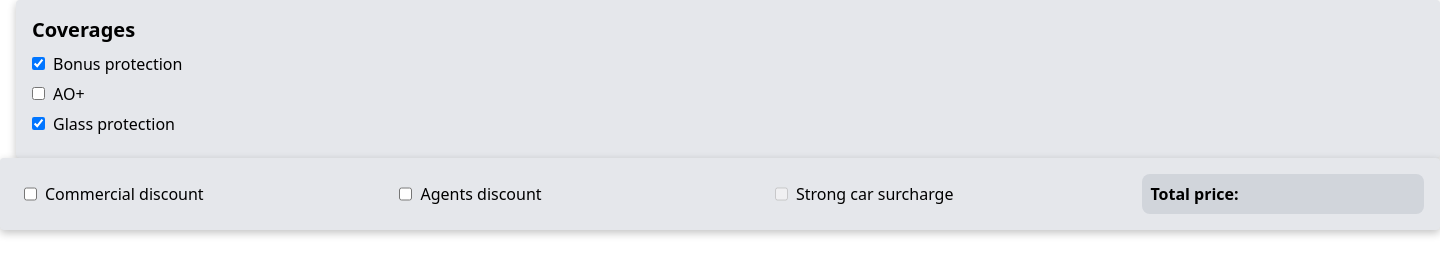
Test case: after unselecting one of the coverages, agents discount checkbox should be disabled again
Check: the checkbox labelled "Agents discount" is enabled, box [400, 182, 412, 206]
Check: the checkbox labelled "Glass protection" is checked, box [32, 117, 45, 130]
Step 1. Click the checkbox labelled "Bonus protection" → coordinates (38, 64), box [32, 57, 45, 70]
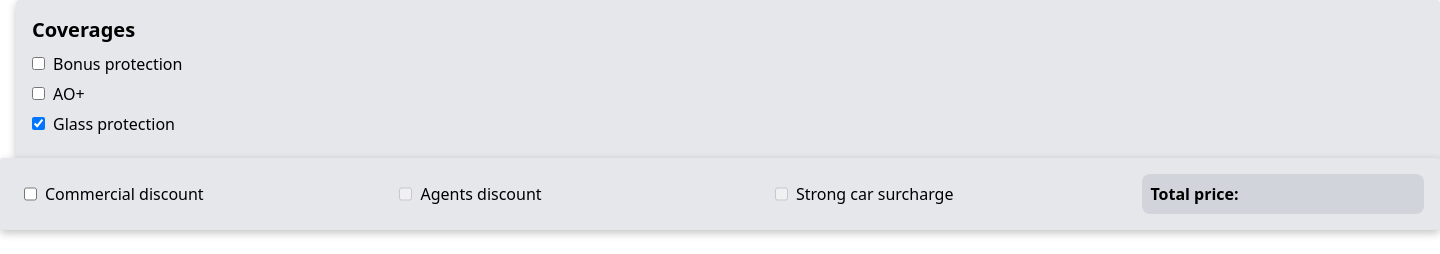
Check: the checkbox labelled "Agents discount" is disabled, box [400, 182, 412, 206]
